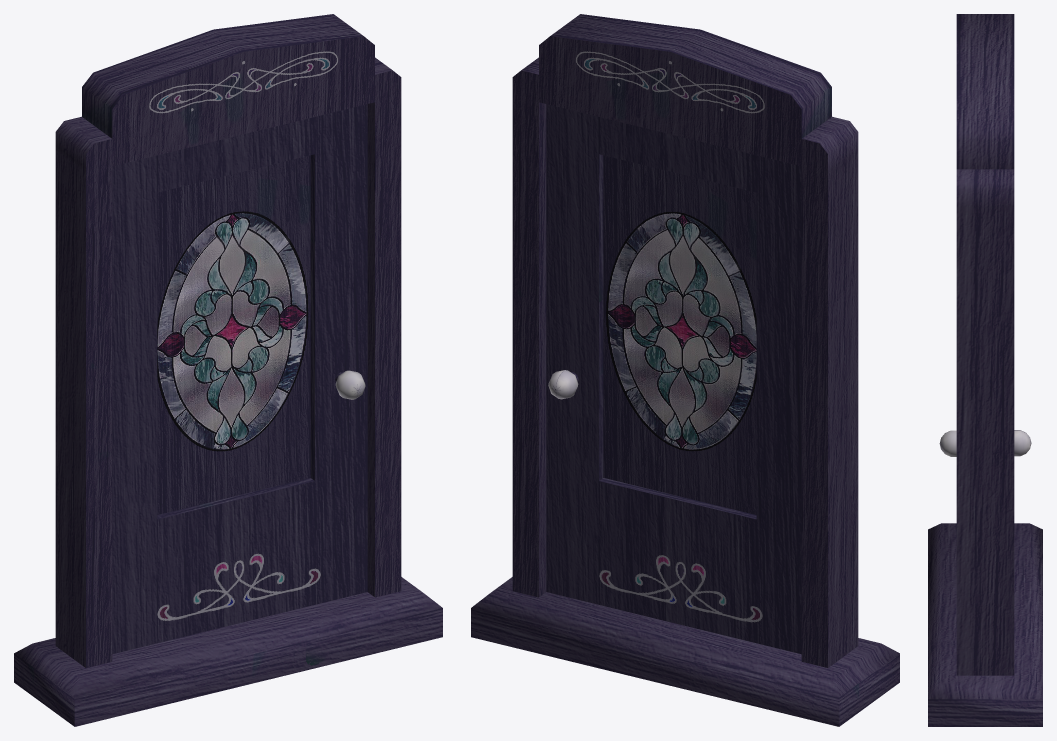
File: Puerta_Salir_Partida.fbx
3 views of the same model, side by side, from view 1: azimuth 30°, elevation 25°; view 2: azimuth 150°, elevation 25°; view 3: azimuth 270°, elevation 25° (orthographic). The views are drawn at different scales.
Visible parts, largest first — view 1: Puerta, Marco; view 2: Puerta, Marco; view 3: Marco, Puerta.
Boxes of the visible parts, box(x1,y1,x2,y2) form: Puerta: box(112, 104, 367, 654); Marco: box(14, 14, 442, 726); Puerta: box(546, 104, 801, 654); Marco: box(471, 14, 899, 726); Marco: box(928, 14, 1042, 726); Puerta: box(939, 430, 1031, 456).
Bounding box in the file's own units: 280 × 450 × 80.
